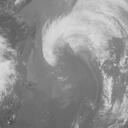cyclone: (42, 28, 86, 67)
